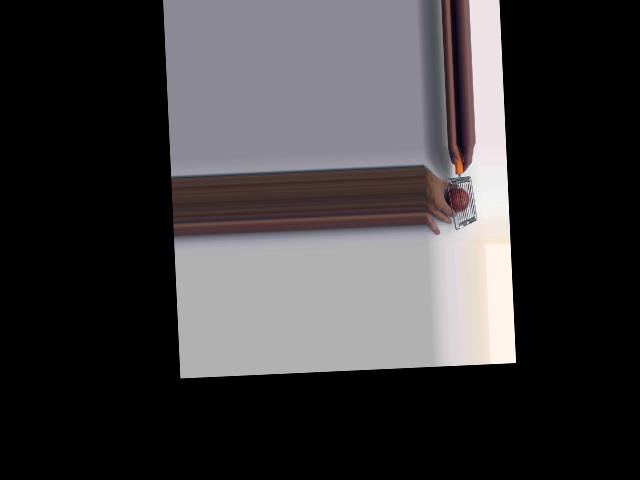tomato: (446, 186, 469, 212)
